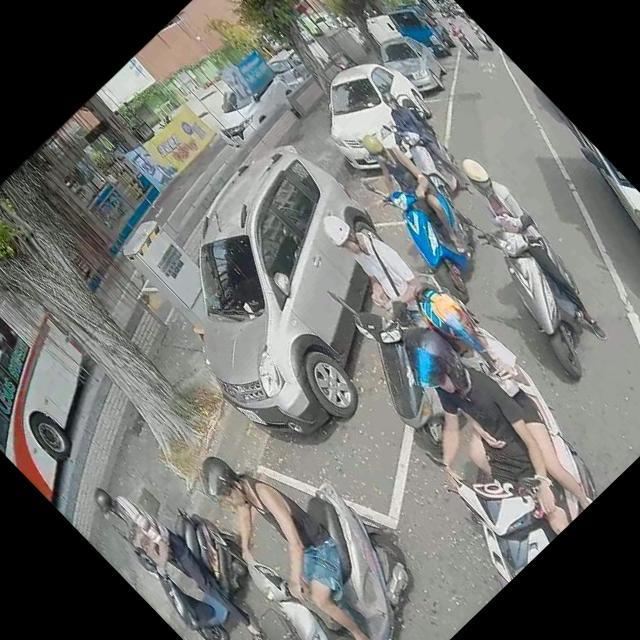person: (339, 306, 604, 574), (360, 274, 623, 540), (167, 427, 417, 640), (432, 148, 628, 348), (81, 468, 272, 640), (302, 197, 453, 350), (336, 117, 482, 267), (371, 80, 484, 196), (458, 9, 482, 33), (444, 20, 461, 37)
